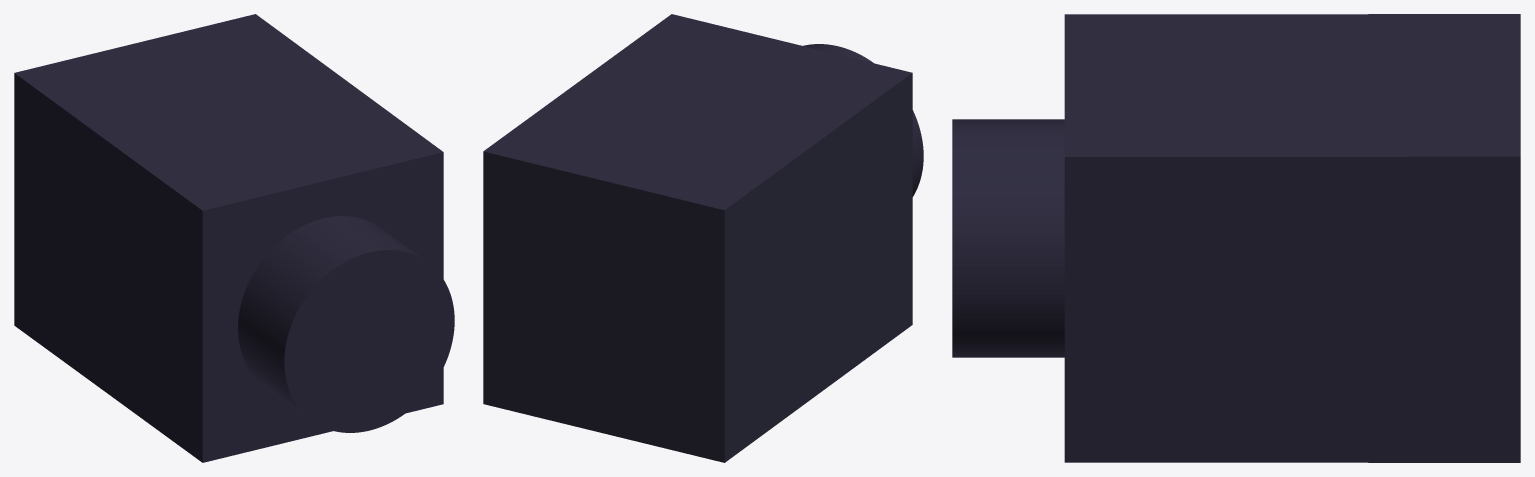
3 renders of one model, left to right at view 1: azimuth 30°, elevation 25°; view 2: azimuth 150°, elevation 25°; view 3: azimuth 270°, elevation 25°, orthographic. The views are drawn at different scales.
Visible parts, largest first — view 1: node; view 2: node; view 3: node.
Boxes of the visible parts, x1,y1,x2,y2 form: node: (14,14,454,462); node: (483,14,923,462); node: (952,14,1520,462).
Size of the model in its own units: 0.1111 by 0.1111 by 0.1869.
